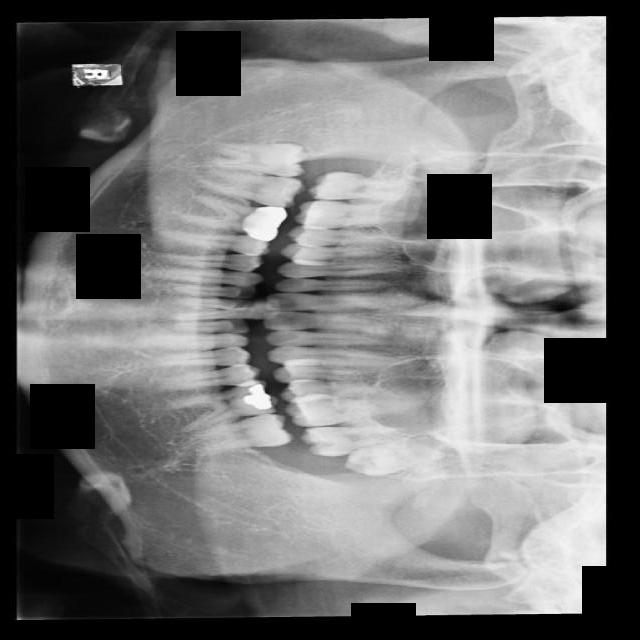52: (220, 379, 277, 420), (239, 206, 285, 241)
73: (30, 602, 40, 614)
BioHorizons Implant: (299, 427, 412, 457)
BioLife Implant: (341, 437, 446, 482)
Blue Sky Bio Implant: (190, 412, 291, 454)
Caries: (306, 171, 425, 201)
Implant: (197, 167, 305, 209)
Keystone Dental Implant: (207, 134, 308, 180)
